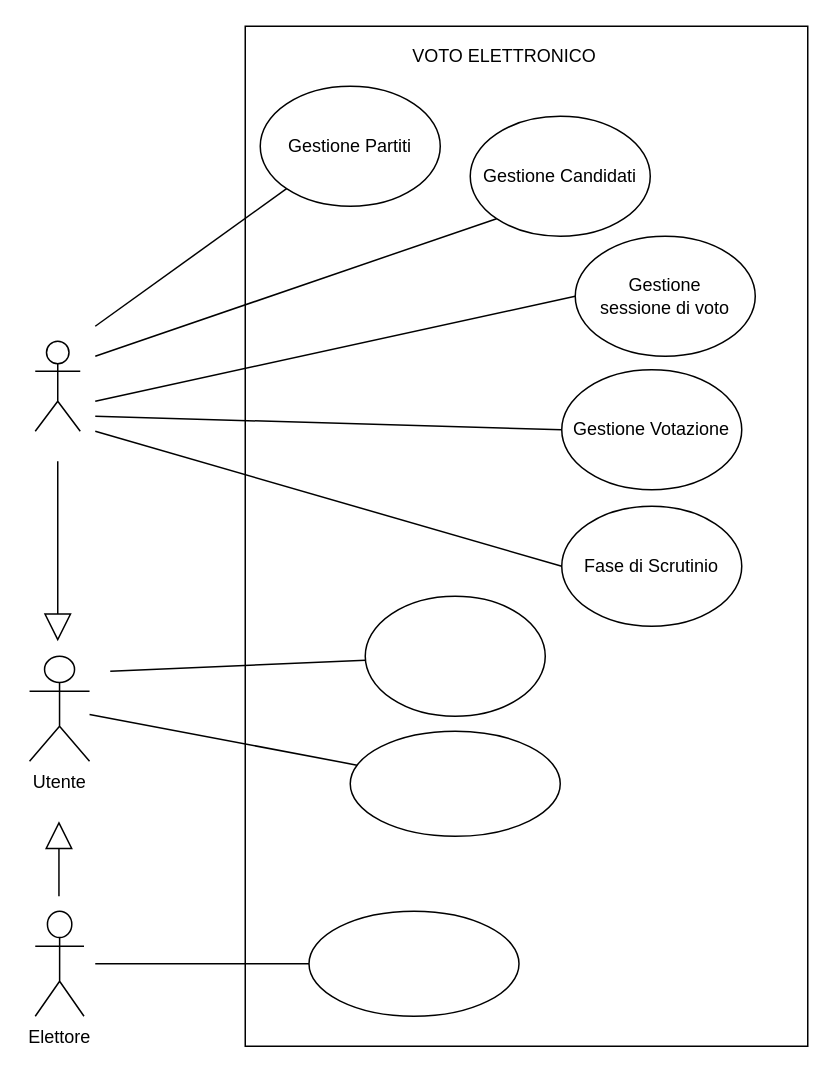
Image size: 834x1074. Some labels were removed from this diagram. The shapes that lost their labels are listed below. From the top down, each one's centre as x and y in pixels, then its label:
[57,385]: Gestore
[454,655]: VIsualizzazione risultati sessioni
[454,783]: Autenticazione
[413,963]: Votazione
